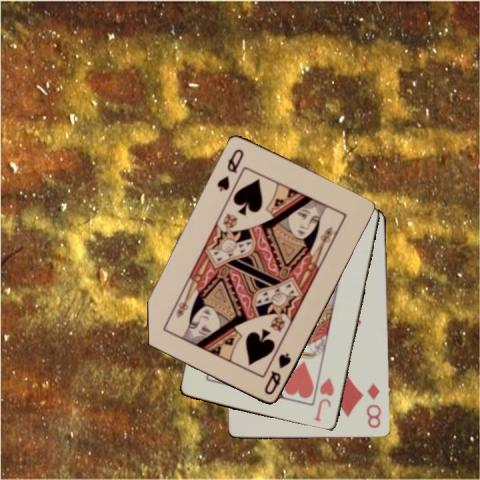8d: (364, 381, 383, 430)
Jh: (313, 375, 336, 423)
Qs: (261, 350, 293, 397), (214, 146, 245, 193)
